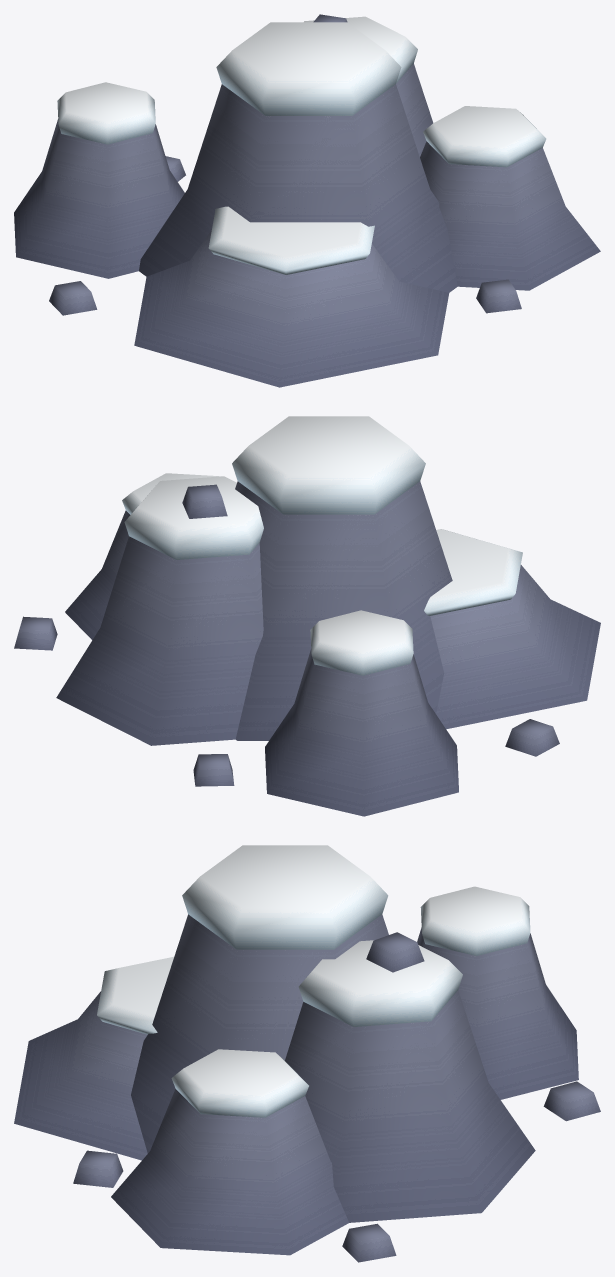
File: rocks-small.glb
The picture shows the model from 3 angles, top to bottom: view 1: azimuth 30°, elevation 25°; view 2: azimuth 150°, elevation 25°; view 3: azimuth 270°, elevation 25°; orthographic projection. The views are drawn at different scales.
Visible parts, largest first — view 1: rocks-small; view 2: rocks-small; view 3: rocks-small.
Boxes of the visible parts, x1,y1,x2,y2 form: rocks-small: (14,14,600,387); rocks-small: (14,416,600,816); rocks-small: (14,845,600,1262).
Size of the model in its own units: 4.62 by 1.94 by 4.24.
1 material, 1 textured.
